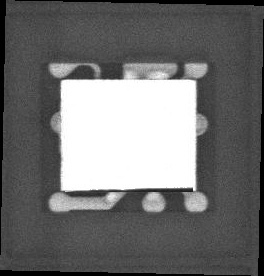DIE_BROKEN: (83, 184, 195, 192)
